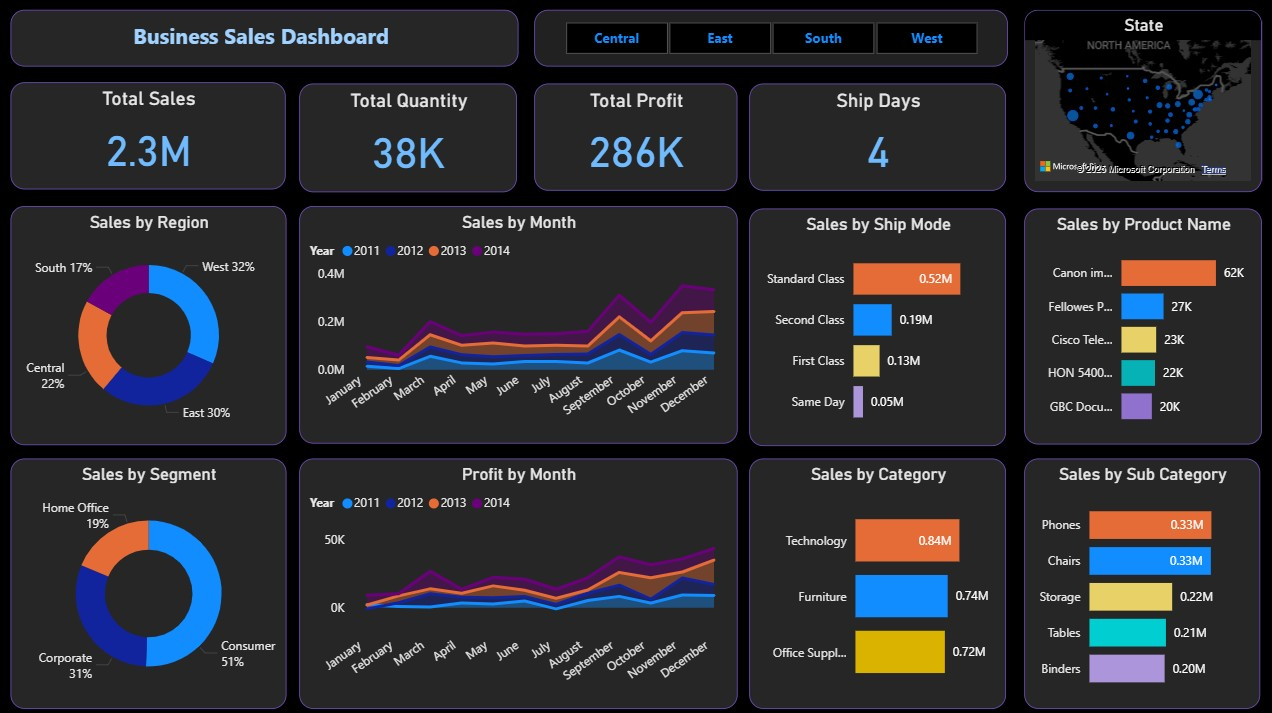

This screenshot's page, from the dashboard's own definition file:
{"tool":"powerbi","page":{"name":"Business Sales Dashboard","canvas":[1280,720],"ordinal":0},"visuals":[{"type":"clusteredBarChart","title":"Sales by Category","fields":{"Category":["Orders.Category"],"Y":["Sum(Orders.Sales)"]},"box":[751.8,462.5,257.1,250],"z":0},{"type":"clusteredBarChart","title":"Sales by Sub Category","fields":{"Y":["Sum(Orders.Sales)"],"Category":["Orders.Sub-Category"]},"box":[1026.8,462.5,235.7,250],"z":1000},{"type":"clusteredBarChart","title":"Sales by Ship Mode","fields":{"Y":["Sum(Orders.Sales)"],"Category":["Orders.Ship Mode"]},"box":[751.8,212.5,257.1,237.5],"z":2000},{"type":"stackedAreaChart","title":"Sales by Month","fields":{"Y":["Sum(Orders.Sales)"],"Category":["Orders.Order Date.Variation.Date Hierarchy.Month"],"Series":["Orders.Order Date.Variation.Date Hierarchy.Year"]},"box":[301.5,210.5,438,237.5],"z":3000},{"type":"stackedAreaChart","title":"Profit by Month","fields":{"Category":["Orders.Order Date.Variation.Date Hierarchy.Month"],"Series":["Orders.Order Date.Variation.Date Hierarchy.Year"],"Y":["Sum(Orders.Profit)"]},"box":[301.5,462.2,438,250.3],"z":4000},{"type":"donutChart","title":"Sales by Segment","fields":{"Category":["Orders.Segment"],"Y":["Sum(Orders.Sales)"]},"box":[12.8,462.2,275.9,250.3],"z":5000},{"type":"donutChart","title":"Sales by Region","fields":{"Y":["Sum(Orders.Sales)"],"Category":["Orders.Region"]},"box":[12.8,210.5,275.9,238.9],"z":6000},{"type":"slicer","fields":{"Values":["Orders.Region"]},"box":[535.7,14.3,473.2,57.1],"z":7000},{"type":"textbox","box":[12.8,14.2,507.7,56.9],"z":8000},{"type":"card","title":"Ship Days","fields":{"Values":["Avg(Orders.AvgDelivery)"]},"box":[751.8,87.5,257.1,107.1],"z":9000},{"type":"card","title":"Total Sales","fields":{"Values":["Orders.Total Sales"]},"box":[12.3,86,275.4,107],"z":10000},{"type":"card","title":"Total Quantity","fields":{"Values":["Orders.Total Quantity"]},"box":[301.8,87.5,217.9,108.9],"z":11000},{"type":"card","title":"Total Profit","fields":{"Values":["Orders.Total Profit"]},"box":[536.8,87.7,203.5,107],"z":12000},{"type":"clusteredBarChart","title":"Sales by Product Name","fields":{"Category":["Orders.Product Name"],"Y":["Sum(Orders.Sales)"]},"box":[1026.8,212.5,237.5,235.7],"z":13000},{"type":"map","title":"State","fields":{"Category":["Orders.State"],"Size":["Sum(Orders.Sales)"]},"box":[1026.8,14.3,237.5,182.1],"z":14000}]}

Visuals, with their boxes in screenshot pixels (x1, y1, x2, y2), scaled from the page's 1280x720 canvas onto the 1272x713 screenshot:
"Sales by Category" clusteredBarChart: Rect(747, 458, 1003, 706)
"Sales by Sub Category" clusteredBarChart: Rect(1020, 458, 1255, 706)
"Sales by Ship Mode" clusteredBarChart: Rect(747, 210, 1003, 446)
"Sales by Month" stackedAreaChart: Rect(300, 208, 735, 444)
"Profit by Month" stackedAreaChart: Rect(300, 458, 735, 706)
"Sales by Segment" donutChart: Rect(13, 458, 287, 706)
"Sales by Region" donutChart: Rect(13, 208, 287, 445)
slicer - Orders.Region: Rect(532, 14, 1003, 71)
textbox: Rect(13, 14, 517, 70)
"Ship Days" card: Rect(747, 87, 1003, 193)
"Total Sales" card: Rect(12, 85, 286, 191)
"Total Quantity" card: Rect(300, 87, 516, 194)
"Total Profit" card: Rect(533, 87, 736, 193)
"Sales by Product Name" clusteredBarChart: Rect(1020, 210, 1256, 444)
"State" map: Rect(1020, 14, 1256, 194)
